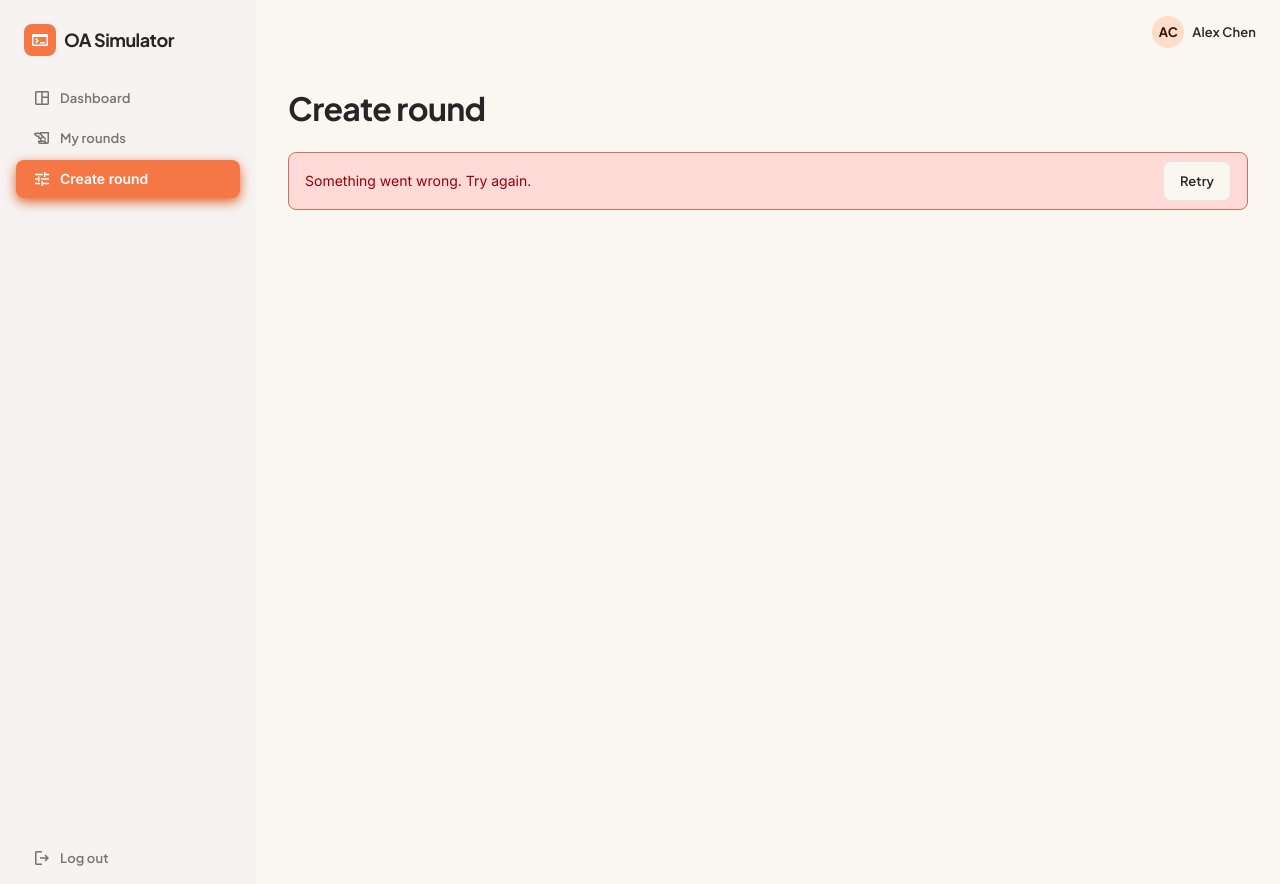
Scenario: S5 loading, error and empty states (FR22) › shows the error with a Retry button, and Retry loads the topics
Expected: the message shows "Something went wrong. Try again.", [305,172,531,189]
What coordinates should you click on to do the following:
click the button "Retry"
I would click on:
 (1197, 181)
Its box is [1163,161,1231,201].
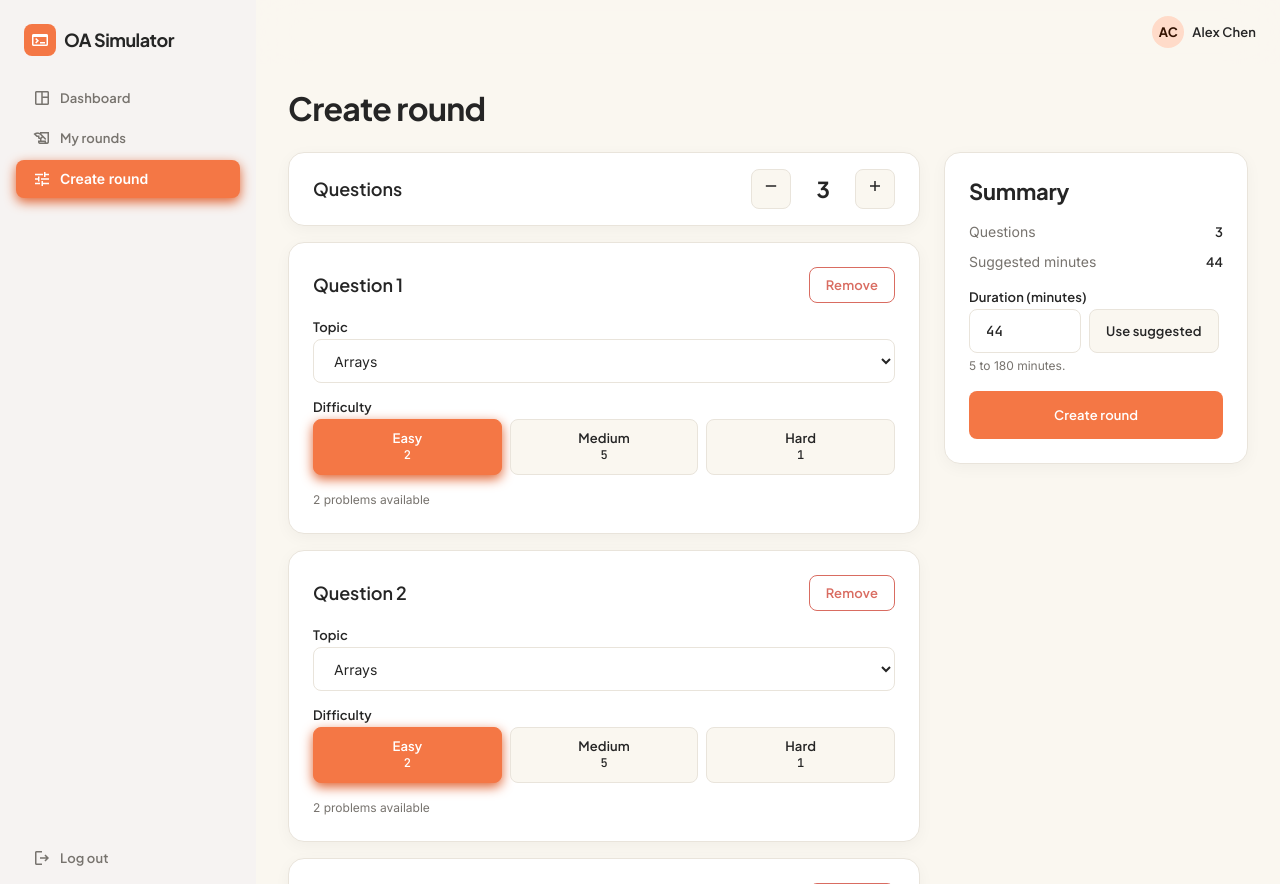
Expected: the element "Question 1" is shown, [288,242,920,534]
